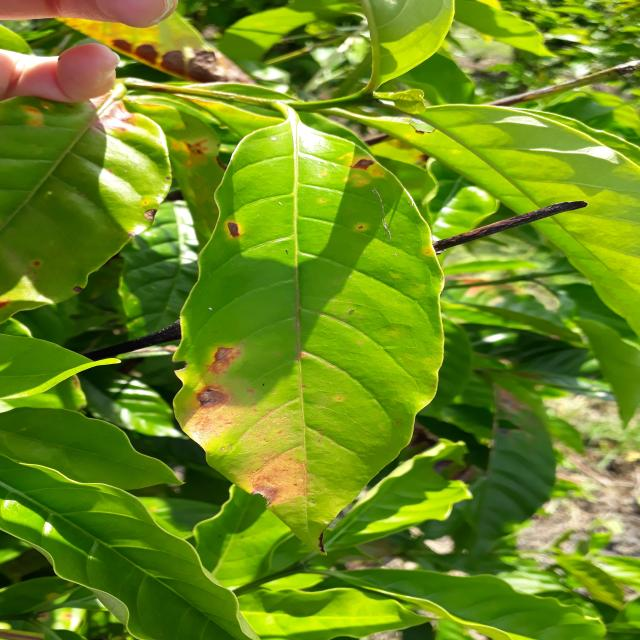Enfermedad-Roya: (180, 118, 455, 547)
